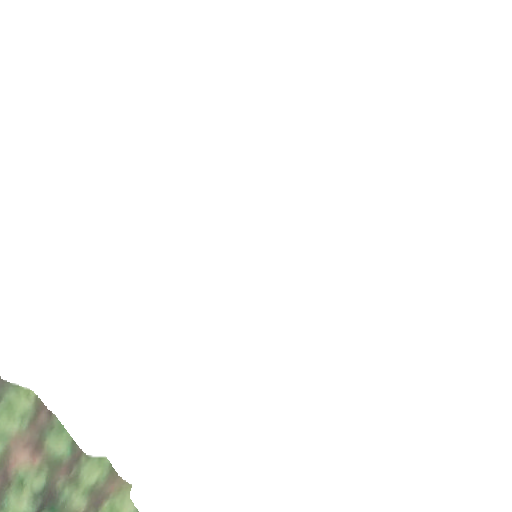eucalipto: (1, 475, 45, 512), (3, 378, 37, 418), (77, 451, 110, 491), (40, 426, 74, 464), (56, 485, 91, 510), (107, 485, 139, 512)
